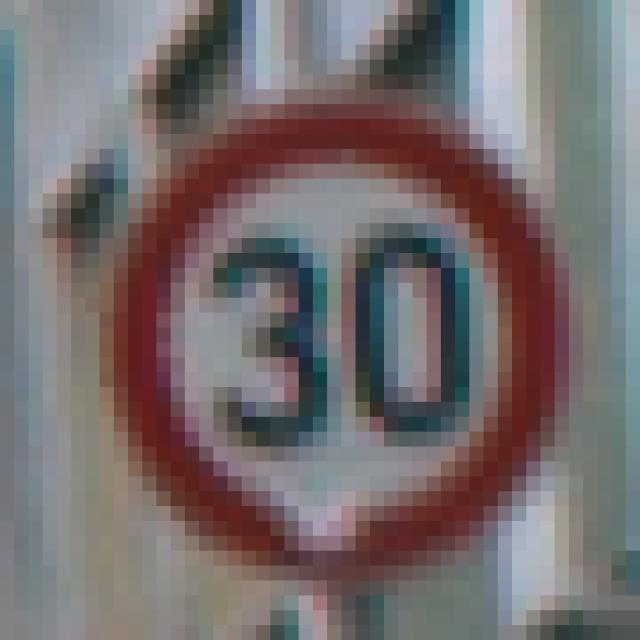Speed Limit -30-: (78, 67, 548, 558)
